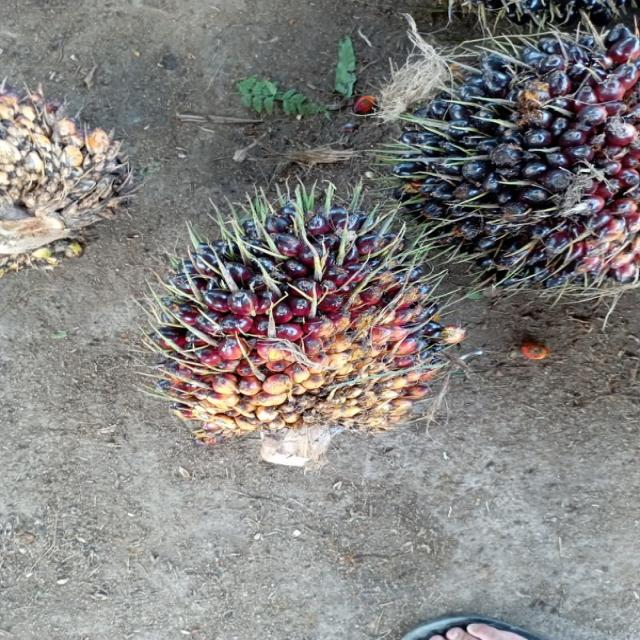fraksi 1: (137, 159, 448, 511)
